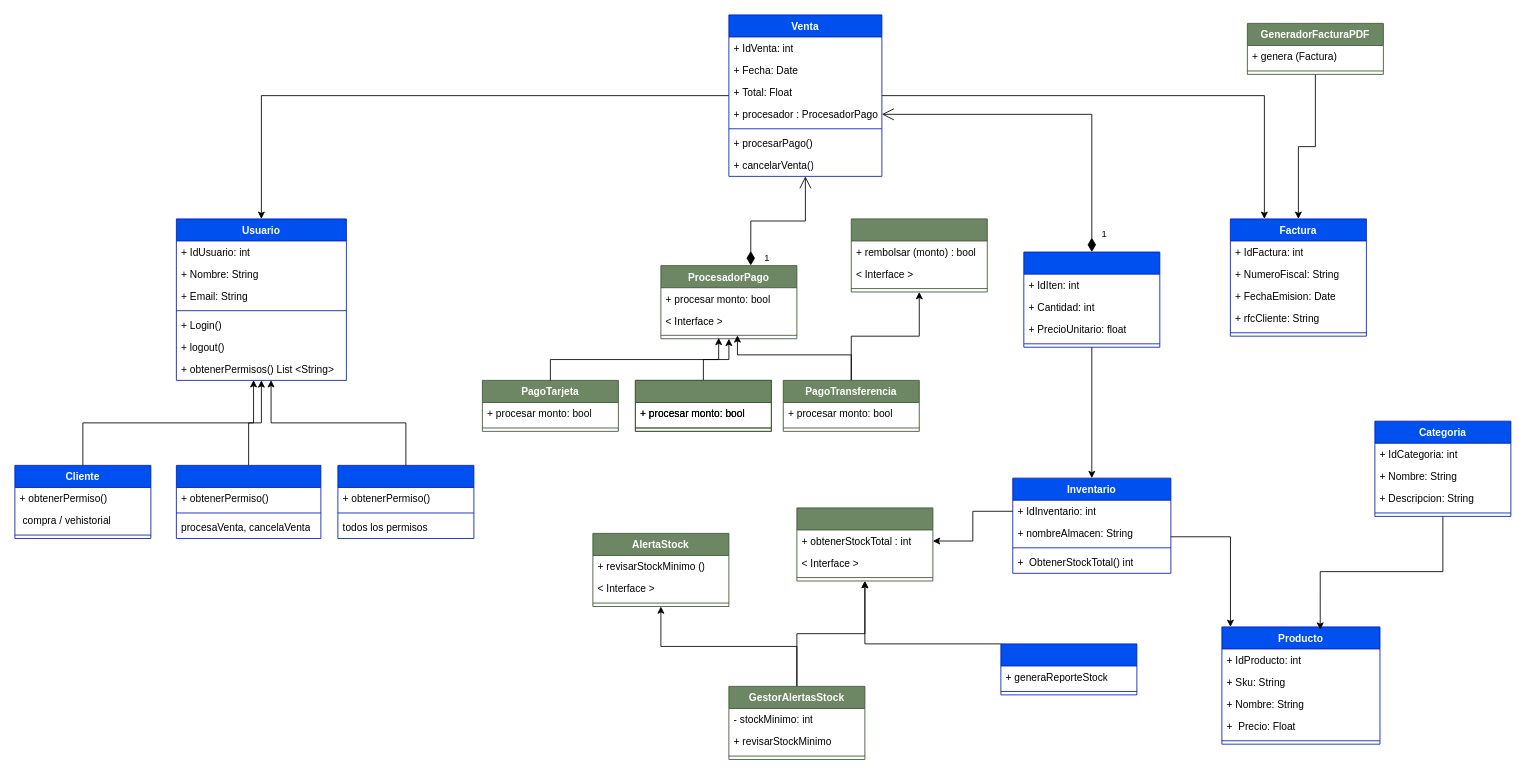
Some shapes in this 1526 by 774 pixel diagram are drawn without their labels. The shapes that lost their labels are listed below. From the top down, each one's box as (x1, y1, x2, y2) in pixels, then its label:
(850, 218, 987, 292): Rembolso
(1023, 251, 1160, 347): ItemVenta
(635, 380, 771, 431): PagoEfectivo
(176, 465, 321, 538): Cajero
(337, 465, 474, 538): Administrador
(796, 507, 933, 581): ConsultaStock
(1000, 643, 1137, 695): ReporteVentas
